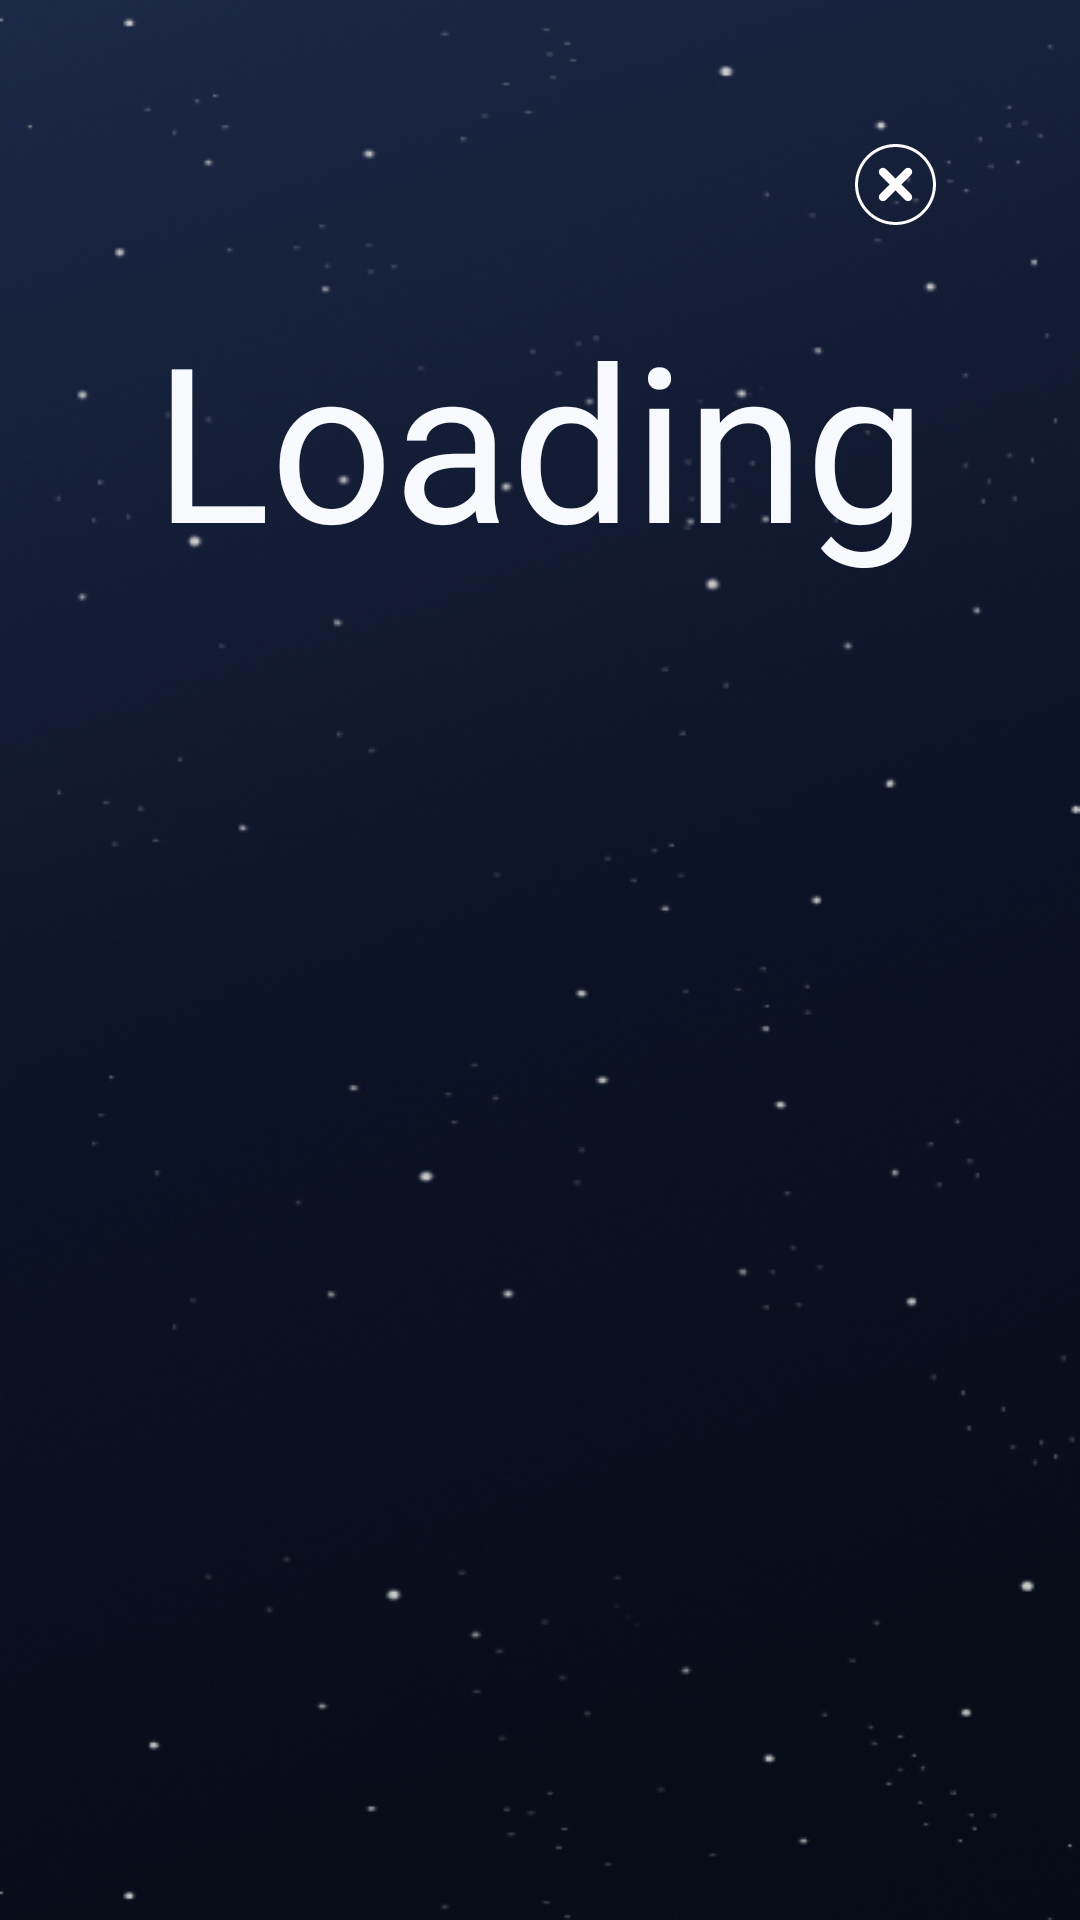

Point at icon controls on the screen. Image size 1080 x 1920, points as [x,y].
close: [895,184]
